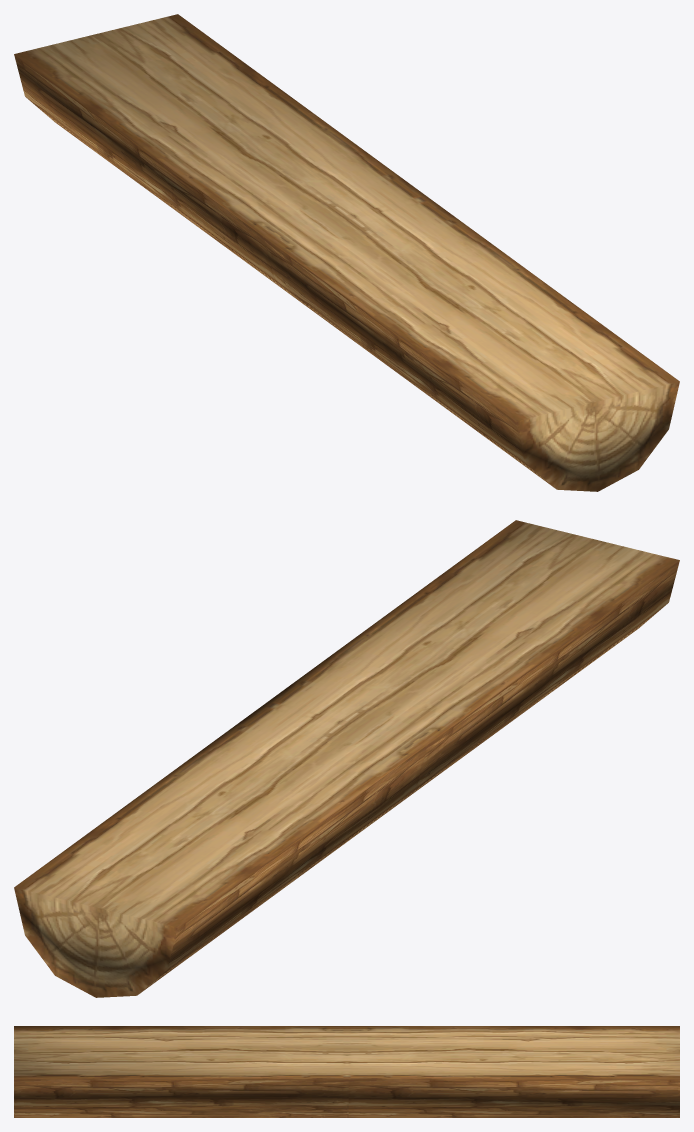
The model's file is taurenlogchair01.obj.
The picture shows the model from 3 angles, top to bottom: view 1: azimuth 30°, elevation 25°; view 2: azimuth 150°, elevation 25°; view 3: azimuth 270°, elevation 25°; orthographic projection. The views are drawn at different scales.
Visible parts, largest first — view 1: TaurenLogChair01; view 2: TaurenLogChair01; view 3: TaurenLogChair01.
Boxes of the visible parts, bbox=[...] form: TaurenLogChair01: bbox=[14, 14, 679, 491]; TaurenLogChair01: bbox=[14, 520, 679, 997]; TaurenLogChair01: bbox=[14, 1026, 679, 1117].
Bounding box in the file's own units: 1.39 × 0.7336 × 7.39.
Materials: 1 (1 with a texture image).
